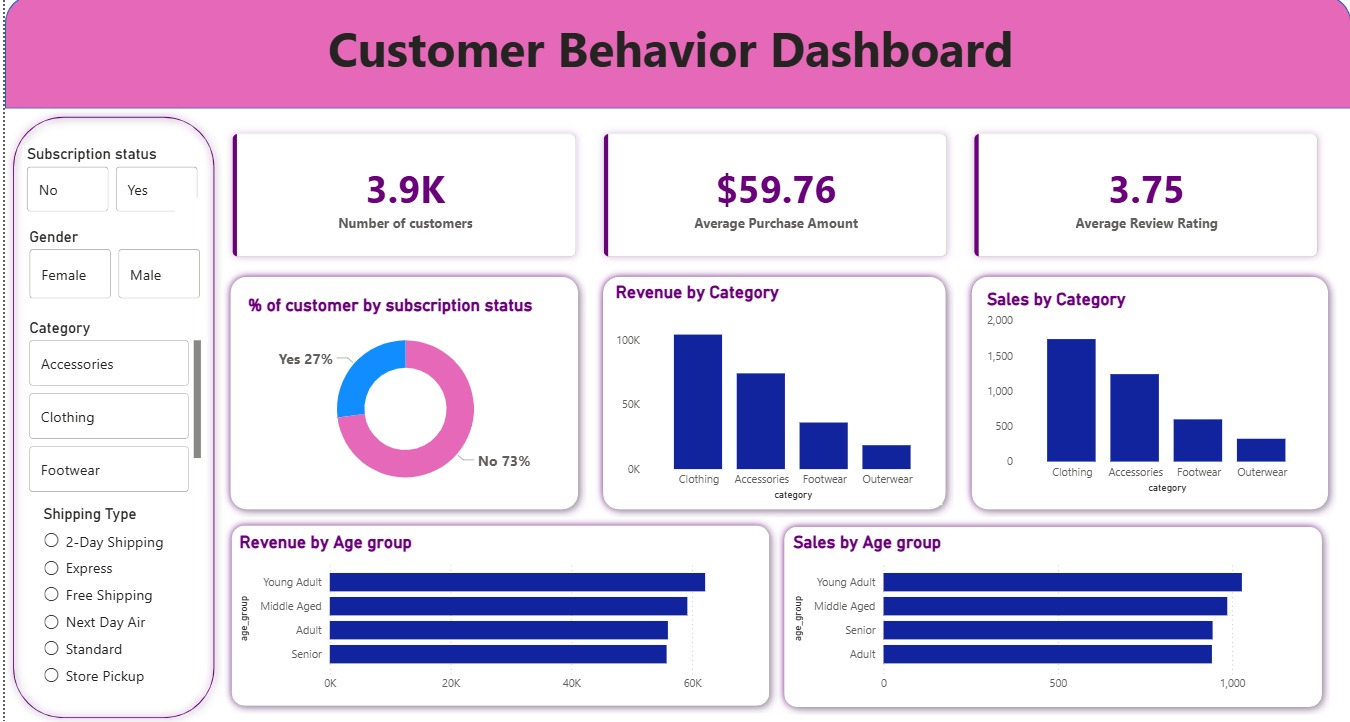

The page's visual inventory and layout, read from the dashboard file:
{"tool":"powerbi","page":{"name":"Page 1","canvas":[1500,820],"ordinal":0},"visuals":[{"type":"cardVisual","fields":{"Data":["customer_shopping_behaviour customer.Number of customers","customer_shopping_behaviour customer.Average Purchase Amount","customer_shopping_behaviour customer.Average Review Rating"]},"box":[225.6,126.7,1267.3,193.6],"z":0},{"type":"shape","box":[0,0,1499.9,126.7],"z":1000},{"type":"textbox","box":[0,18.1,1483.2,108.6],"z":2000},{"type":"shape","box":[242.3,305,405.3,277.1],"z":3000},{"type":"donutChart","title":"% of customer by subscription status","fields":{"Category":["customer_shopping_behaviour customer.subscription_status"],"Y":["CountNonNull(customer_shopping_behaviour customer.customer_id)"]},"box":[266,334.2,360.7,232.6],"z":4000},{"type":"shape","box":[657.3,305,399.7,277.1],"z":5000},{"type":"shape","box":[1068.2,305,415,277.1],"z":6000},{"type":"clusteredColumnChart","title":"Revenue by Category","fields":{"Y":["Sum(customer_shopping_behaviour customer.purchase_amount)"],"Category":["customer_shopping_behaviour customer.category"]},"box":[675.4,320.3,369.1,247.9],"z":7000},{"type":"clusteredColumnChart","title":"Sales by Category","fields":{"Y":["CountNonNull(customer_shopping_behaviour customer.customer_id)"],"Category":["customer_shopping_behaviour customer.category"]},"box":[1089.1,327.3,373.2,232.6],"z":8000},{"type":"shape","box":[0,126.7,242.3,688],"z":9000},{"type":"advancedSlicerVisual","title":"Subscription status","fields":{"Values":["customer_shopping_behaviour customer.subscription_status"]},"box":[19.5,167.1,201.9,79.4],"z":10000},{"type":"advancedSlicerVisual","title":"Gender","fields":{"Values":["customer_shopping_behaviour customer.gender"]},"box":[22.3,259,201.9,85],"z":11000},{"type":"advancedSlicerVisual","title":"Category","fields":{"Values":["customer_shopping_behaviour customer.category"]},"box":[22.3,360.7,201.9,199.2],"z":12000},{"type":"listSlicer","title":"Shipping Type","fields":{"Values":["customer_shopping_behaviour customer.shipping_type"]},"box":[37.6,568.2,165.7,210.3],"z":13000},{"type":"shape","box":[243.7,582.1,617,218.6],"z":14000},{"type":"clusteredBarChart","title":"Revenue by Age group","fields":{"Y":["Sum(customer_shopping_behaviour customer.purchase_amount)"],"Category":["customer_shopping_behaviour customer.age_group"]},"box":[256.3,598.8,591.9,186.6],"z":15000},{"type":"shape","box":[859.3,583.5,617,218.6],"z":15001},{"type":"clusteredBarChart","title":"Sales by Age group","fields":{"Category":["customer_shopping_behaviour customer.age_group"],"Y":["CountNonNull(customer_shopping_behaviour customer.customer_id)"]},"box":[873.2,598.8,591.9,186.6],"z":15002}]}

Visuals, with their boxes in screenshot pixels (x1, y1, x2, y2), scaled from the page's 1500x820 canvas onto the 1350x722 screenshot:
cardVisual - customer_shopping_behaviour customer.Number of customers x customer_shopping_behaviour customer.Average Purchase Amount: select_region(203, 112, 1344, 282)
shape: select_region(0, 0, 1349, 112)
textbox: select_region(0, 16, 1335, 112)
shape: select_region(218, 269, 583, 513)
"% of customer by subscription status" donutChart: select_region(239, 294, 564, 499)
shape: select_region(592, 269, 951, 513)
shape: select_region(961, 269, 1335, 513)
"Revenue by Category" clusteredColumnChart: select_region(608, 282, 940, 500)
"Sales by Category" clusteredColumnChart: select_region(980, 288, 1316, 493)
shape: select_region(0, 112, 218, 717)
"Subscription status" advancedSlicerVisual: select_region(18, 147, 199, 217)
"Gender" advancedSlicerVisual: select_region(20, 228, 202, 303)
"Category" advancedSlicerVisual: select_region(20, 318, 202, 493)
"Shipping Type" listSlicer: select_region(34, 500, 183, 685)
shape: select_region(219, 513, 775, 705)
"Revenue by Age group" clusteredBarChart: select_region(231, 527, 763, 692)
shape: select_region(773, 514, 1329, 706)
"Sales by Age group" clusteredBarChart: select_region(786, 527, 1319, 692)
